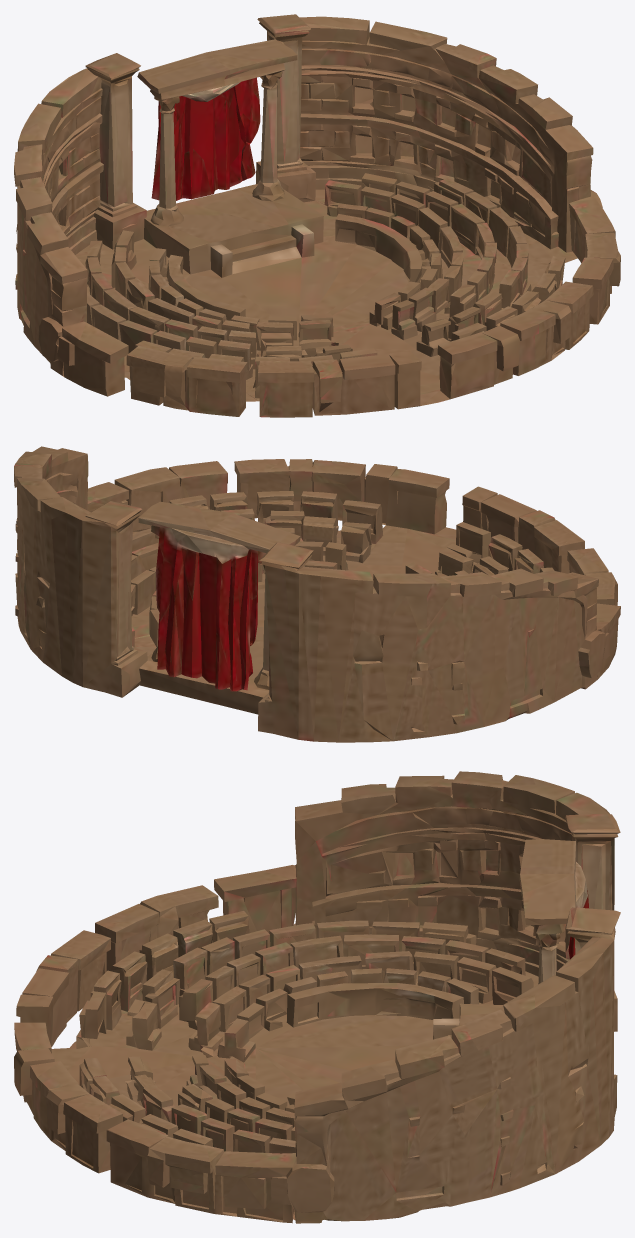
The model's file is lm_open_air_theatre.glb.
3 views of the same model, one above another, from view 1: azimuth 30°, elevation 25°; view 2: azimuth 150°, elevation 25°; view 3: azimuth 270°, elevation 25° (orthographic). The views are drawn at different scales.
Size of the model in its own units: 1.9 by 0.5981 by 1.59.
Materials: 1 (1 with a texture image).
